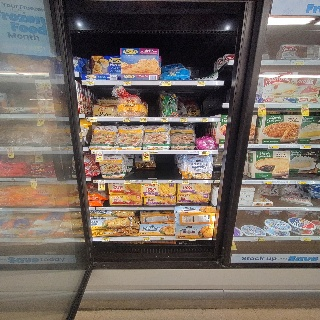All PRICE TAGS: (299, 236, 312, 241), (292, 60, 304, 65), (199, 150, 211, 155), (300, 144, 311, 149), (254, 237, 265, 241), (160, 81, 171, 85), (262, 180, 272, 184), (197, 81, 205, 86), (122, 117, 130, 122), (89, 117, 97, 122), (86, 81, 95, 85), (123, 179, 132, 183), (134, 179, 143, 183), (301, 103, 308, 108), (201, 117, 208, 122), (143, 236, 150, 241), (123, 81, 131, 85), (139, 118, 147, 122), (94, 150, 102, 154), (142, 150, 150, 154), (296, 181, 306, 184), (268, 145, 278, 148), (6, 147, 13, 151), (161, 118, 168, 122), (259, 104, 266, 108), (182, 180, 189, 184), (102, 237, 109, 241), (29, 178, 37, 181), (151, 180, 159, 183), (168, 180, 176, 183), (180, 118, 187, 121), (98, 180, 105, 183)
